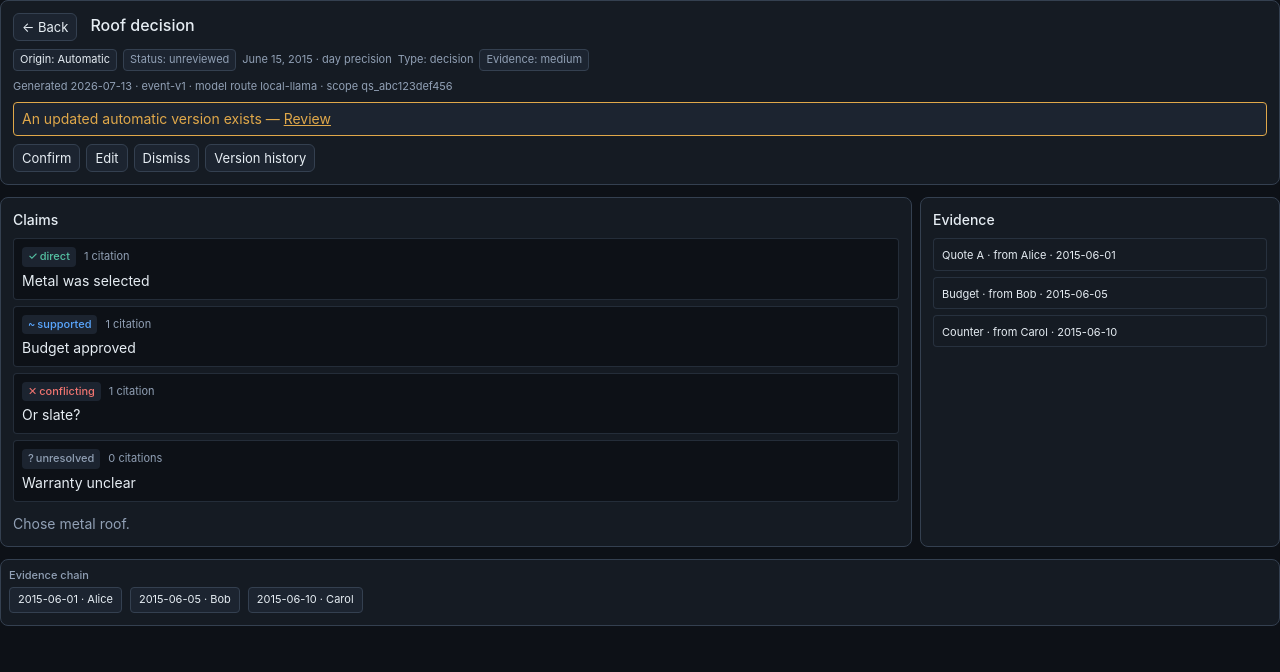
Test: ReconstructionView › version panel adopt flow shows banner
This screenshot has width=1280, height=672.
Expected: the message "An updated automatic version exists — Review" is shown, left=13, top=102, right=1267, bottom=136
Expected: the message with test id "recon-suggestion-banner" shows "An updated automatic version exists", left=22, top=110, right=280, bottom=127
Click the button with test id "recon-version-toggle": {"x": 260, "y": 158} left=205, top=144, right=315, bottom=172
(page scrolled)
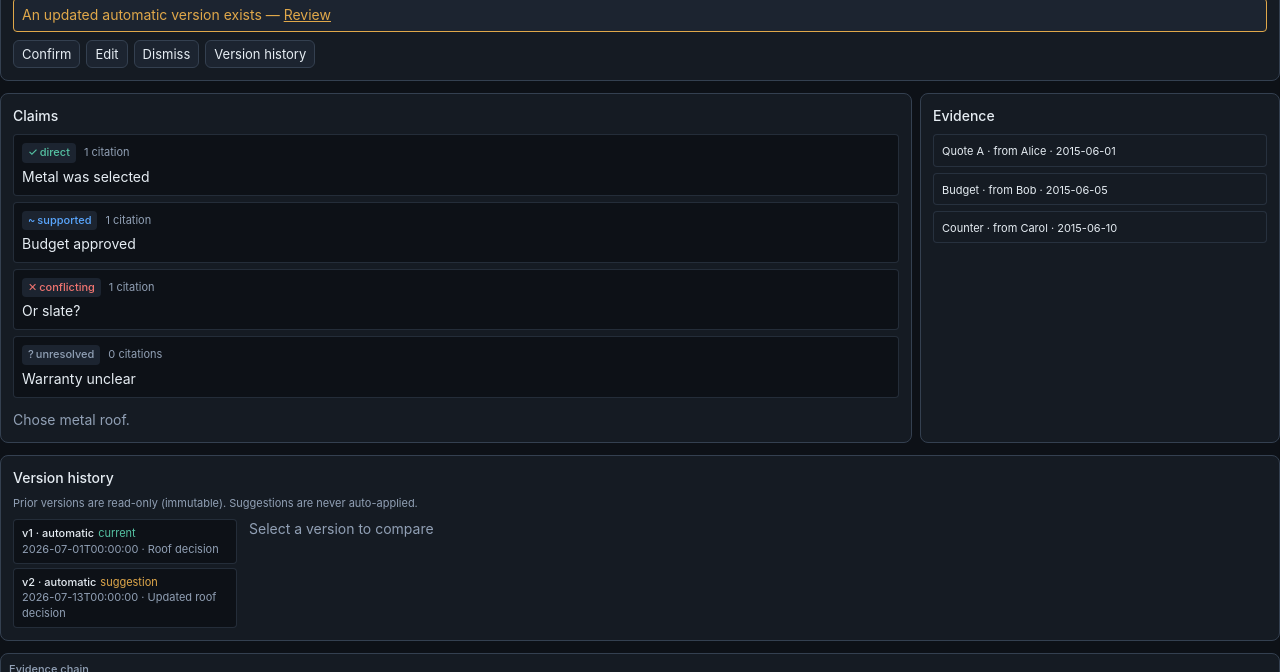
Now the element with test id "version-history-panel" is shown, box left=0, top=455, right=1279, bottom=641
Now the button with test id "version-list-item" that starts with "automatic" is shown
Click the button with test id "version-list-item" that starts with "automatic": {"x": 125, "y": 598} left=13, top=568, right=237, bottom=628
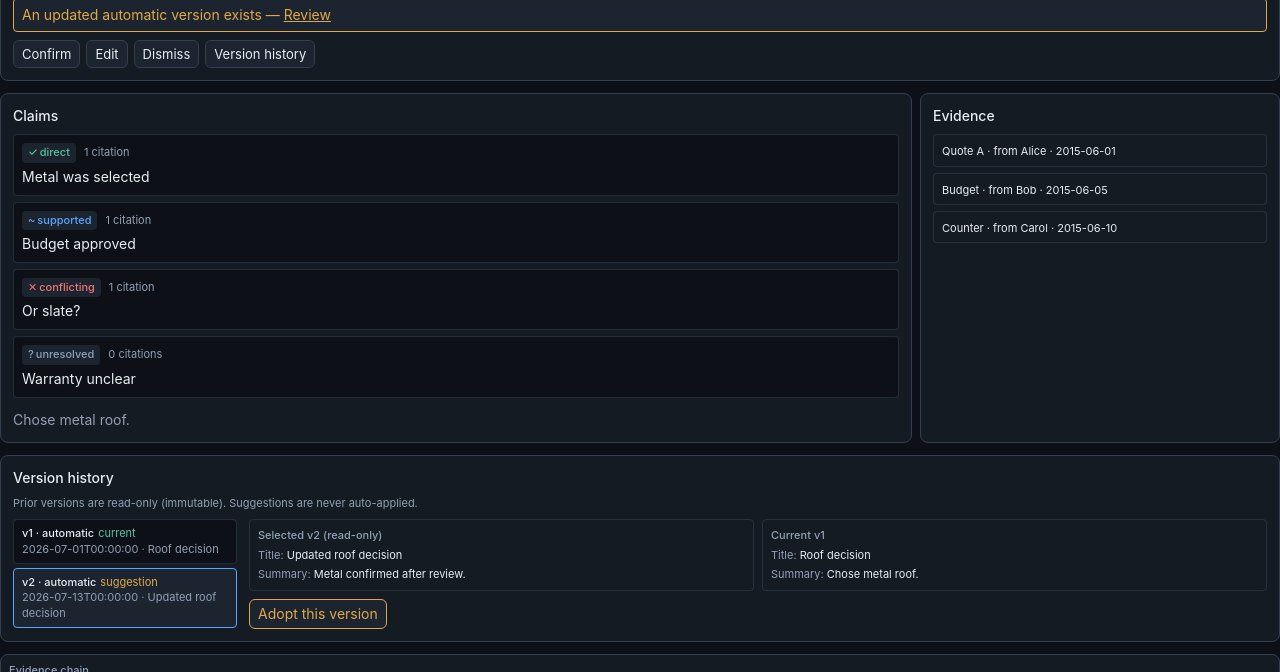
Now the button with test id "version-adopt" is shown
Click the button with test id "version-adopt": {"x": 318, "y": 614} left=249, top=599, right=387, bottom=629
(page scrolled)
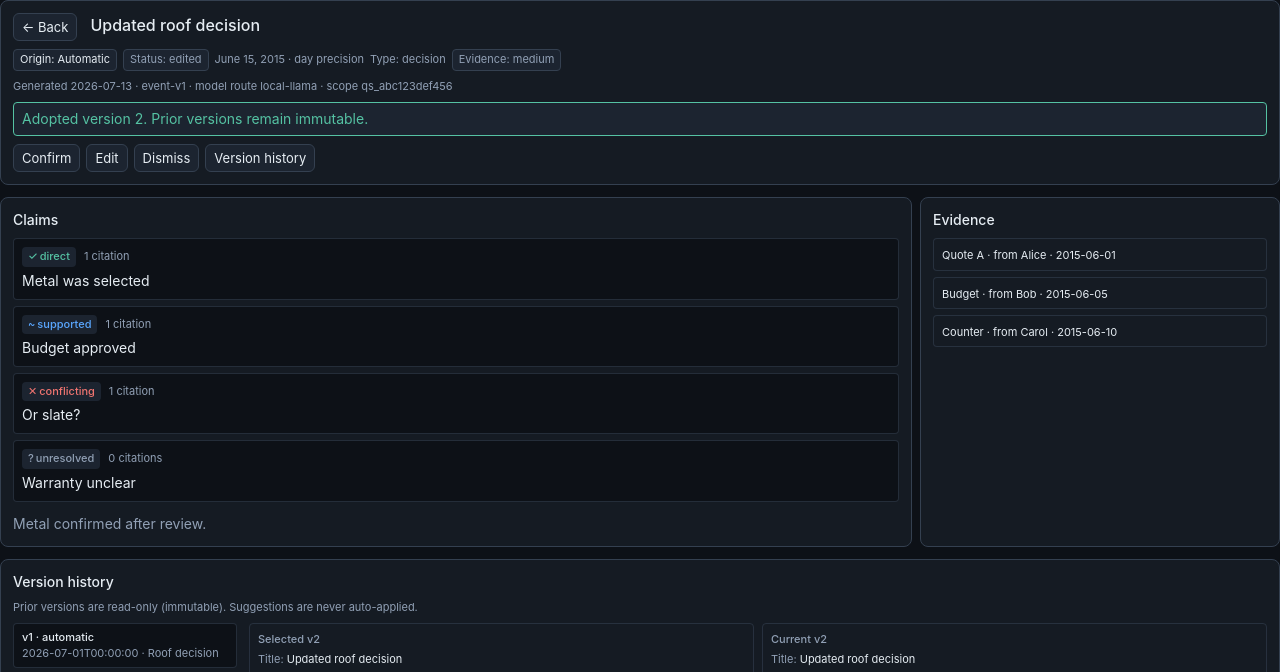
Now the message "Adopted version 2. Prior versions remain immutable." is shown, box left=13, top=102, right=1267, bottom=136
Now the message with test id "recon-adopted-banner" shows "Adopted version 2", box left=22, top=110, right=368, bottom=127
